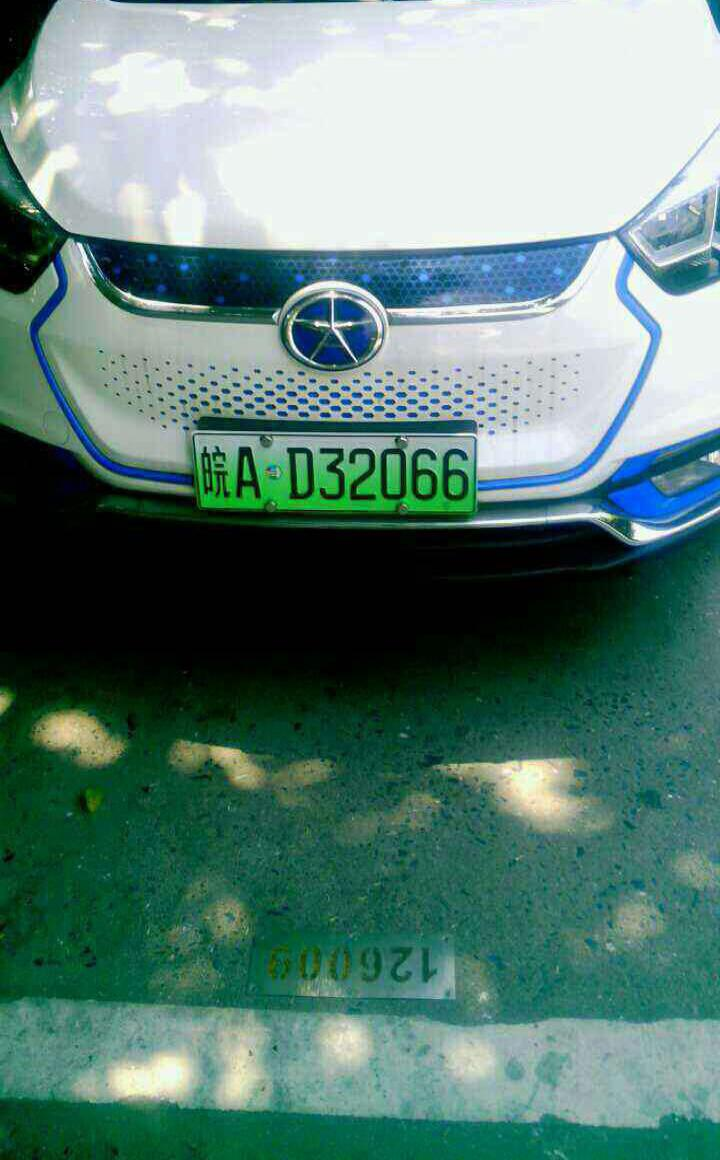car_id: (201, 434, 473, 509)
